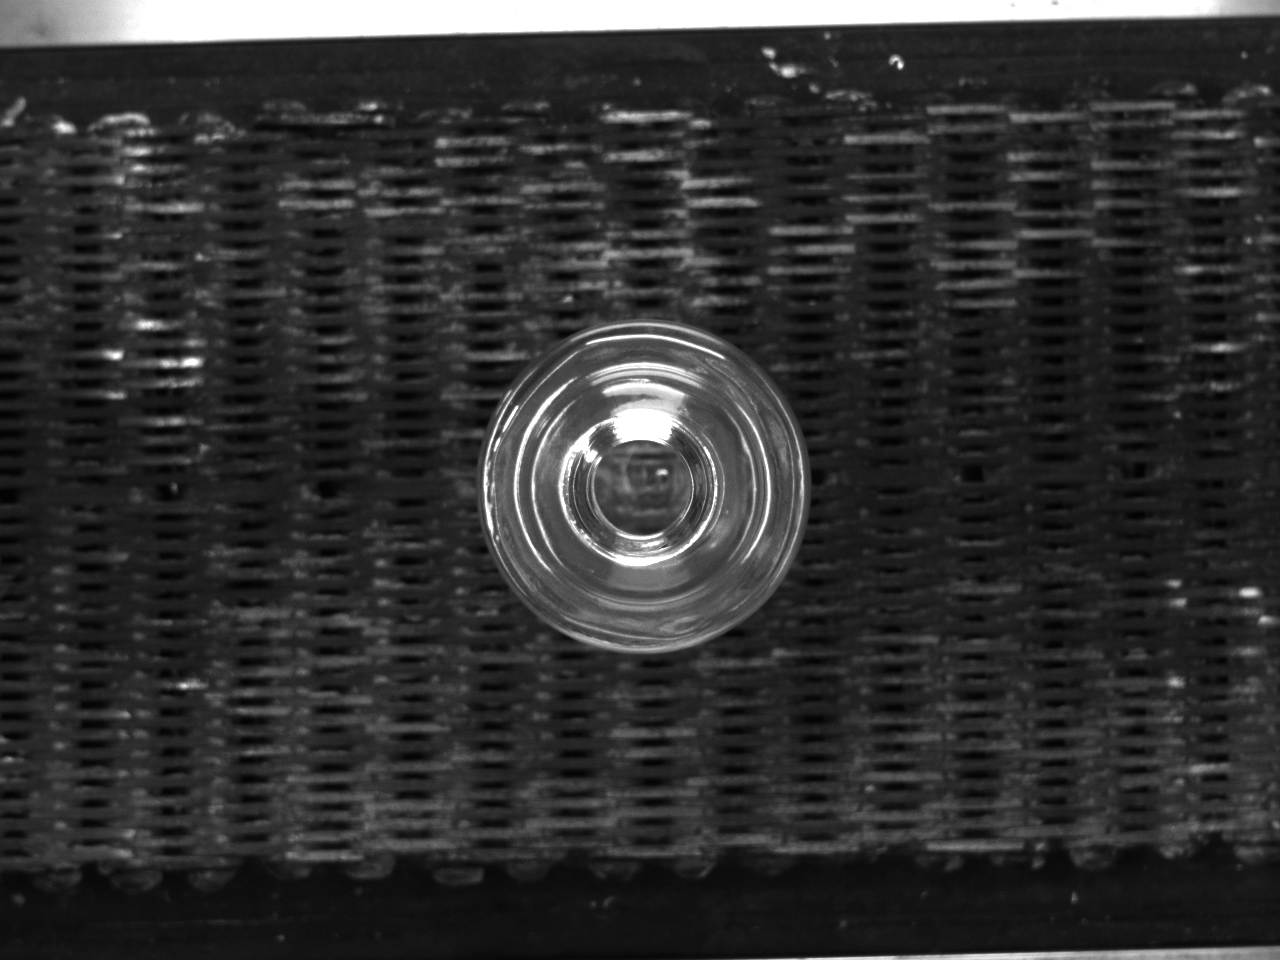bottleneck: (559, 410, 720, 565)
